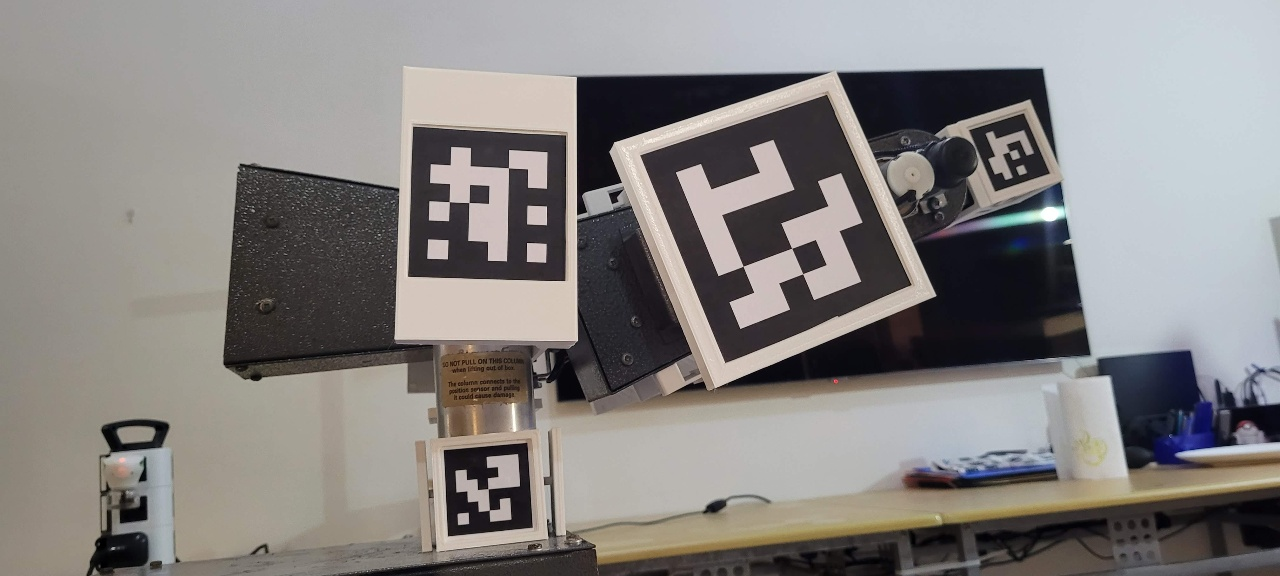Robot: (222, 63, 1064, 553)
